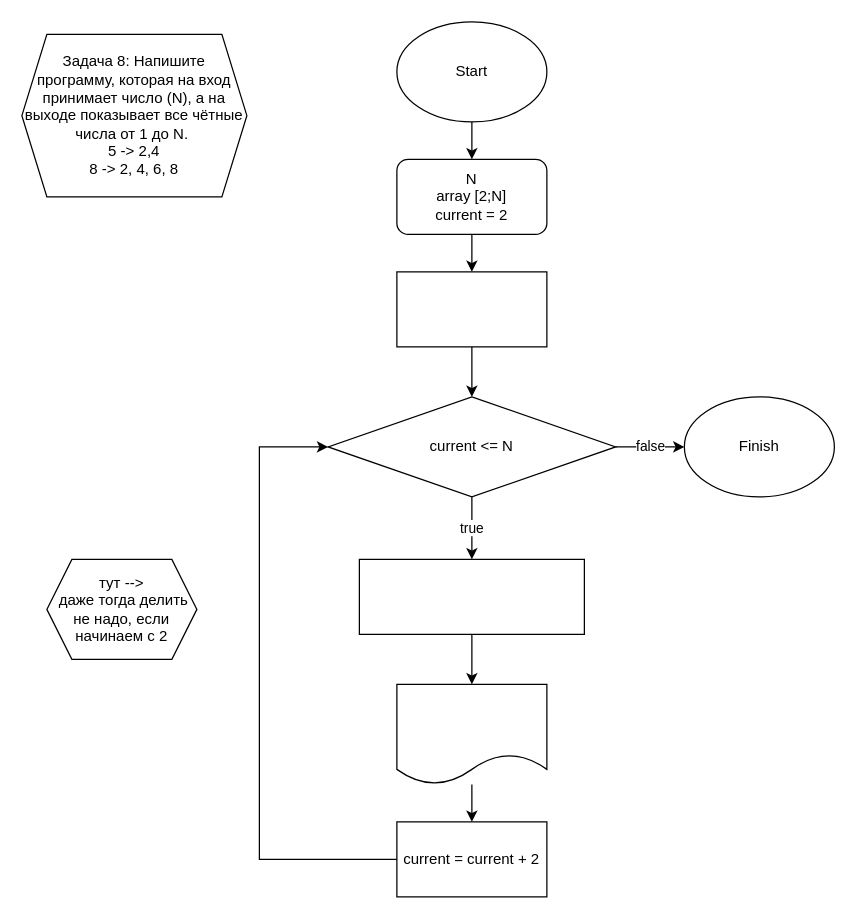
The diagram is 856 pixels wide and 919 high, and some of its shapes have lost their labels. Each missing label, with the centre of its shape:
"current % 2 ==0" goes at pixel 471 596.
"input N" goes at pixel 471 309.
"output current" goes at pixel 471 733.
